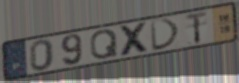0: (28, 38, 56, 73)
9: (61, 31, 87, 66)
D: (149, 17, 182, 53)
Q: (89, 29, 120, 61)
T: (184, 10, 209, 46)
X: (117, 20, 153, 58)
